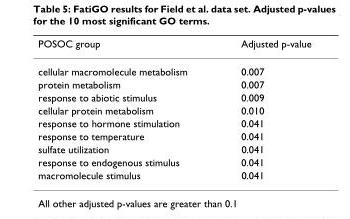table: (37, 37, 310, 180)
table column: (37, 37, 213, 180), (213, 37, 310, 180)
table column header: (37, 37, 310, 57)
table row: (37, 37, 310, 57), (37, 57, 310, 77), (37, 77, 310, 90), (37, 90, 310, 103), (37, 103, 310, 116), (37, 116, 310, 129), (37, 129, 310, 142), (37, 142, 310, 155), (37, 155, 310, 168), (37, 168, 310, 180)
